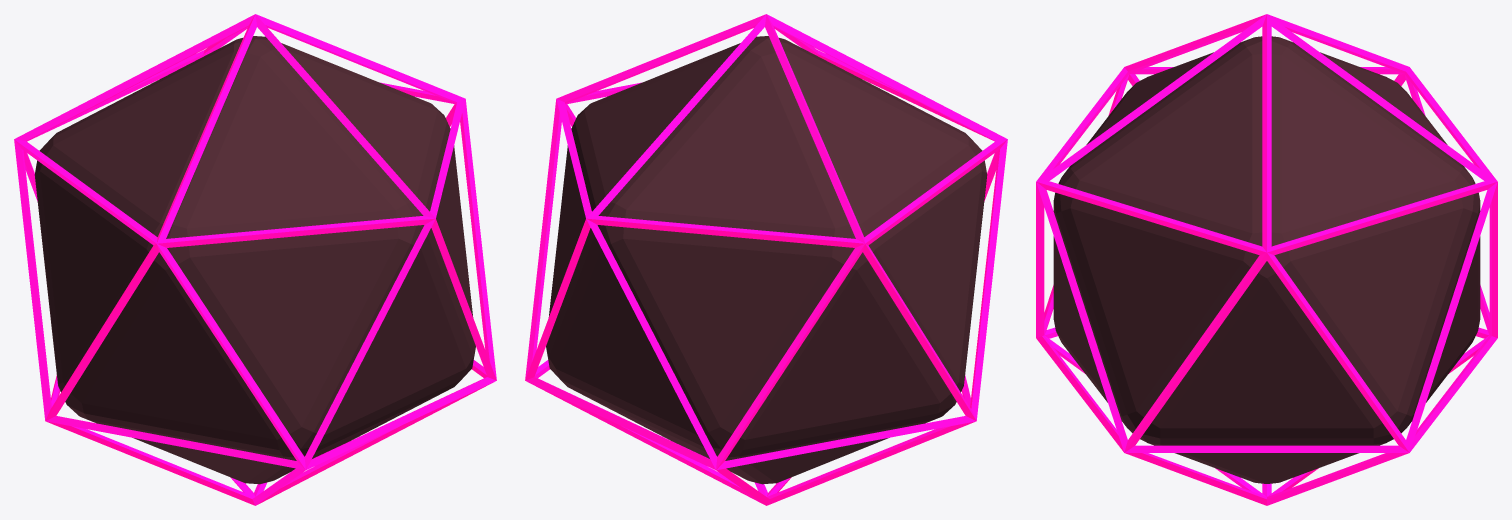
File: IceVaultGlyph.glb
3 views of the same model, side by side, from view 1: azimuth 30°, elevation 25°; view 2: azimuth 150°, elevation 25°; view 3: azimuth 270°, elevation 25° (orthographic).
Visible parts, largest first — view 1: Vault_Shell_Plates, Vault_Conduit_Rims; view 2: Vault_Shell_Plates, Vault_Conduit_Rims; view 3: Vault_Shell_Plates, Vault_Conduit_Rims.
Part boxes in pixels (x1,y1,x2,y2): Vault_Shell_Plates: (34, 36, 475, 484); Vault_Conduit_Rims: (14, 14, 496, 505); Vault_Shell_Plates: (546, 36, 987, 484); Vault_Conduit_Rims: (525, 14, 1007, 505); Vault_Shell_Plates: (1053, 36, 1480, 483); Vault_Conduit_Rims: (1036, 14, 1497, 505).
Size of the model in its own units: 1.24 by 1.38 by 1.18.
